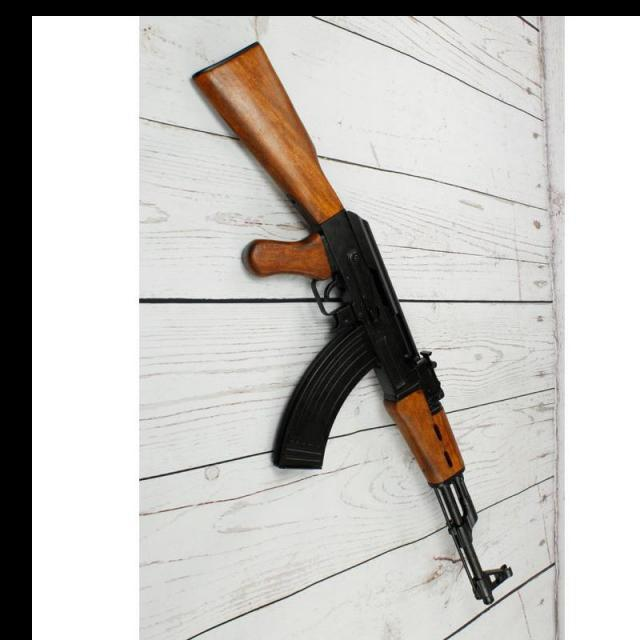weapon: (190, 38, 516, 608)
